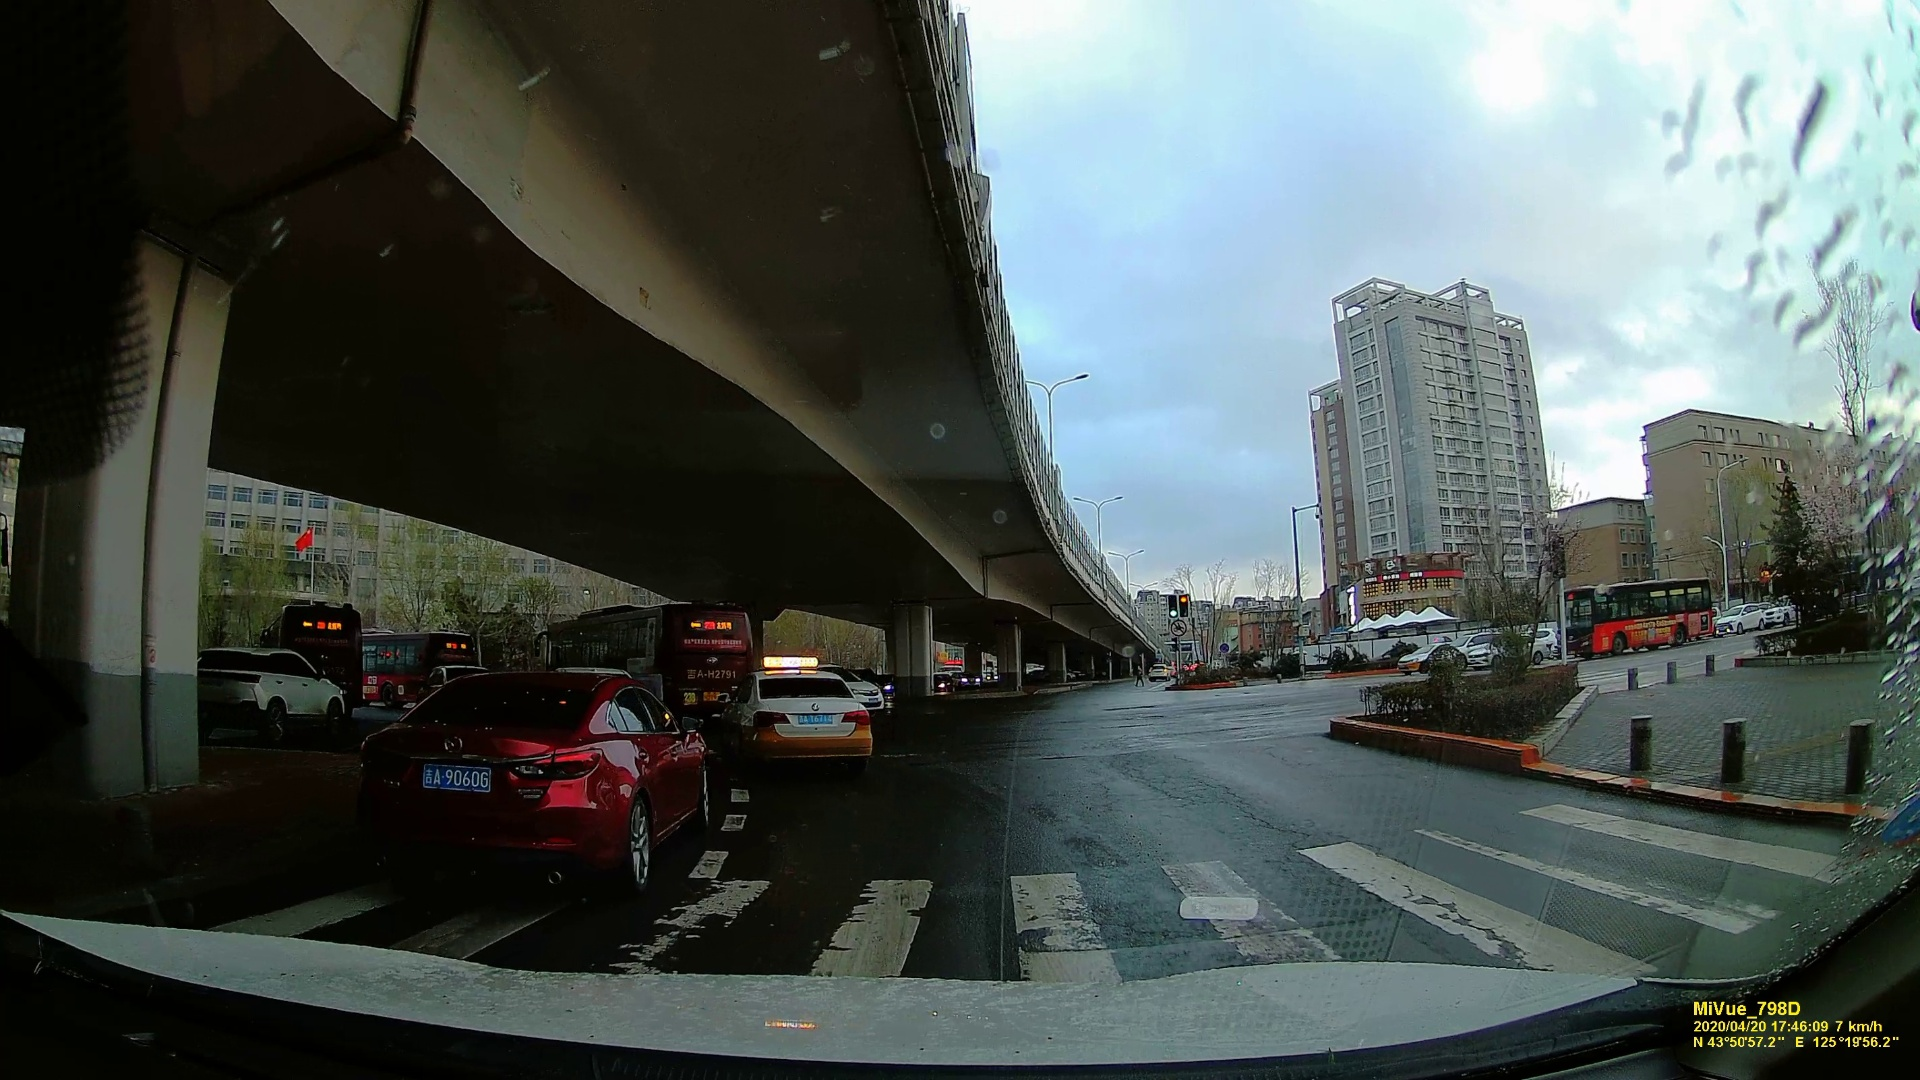bus: (542, 602, 754, 688), (1565, 580, 1713, 656), (278, 600, 364, 694), (361, 629, 473, 693)
person: (1134, 664, 1146, 687)
traffic_sign: (1178, 594, 1189, 619), (1166, 594, 1178, 619)
vehicle: (361, 667, 713, 891), (729, 671, 872, 772), (188, 646, 350, 732), (954, 671, 981, 689), (1149, 663, 1169, 682)
